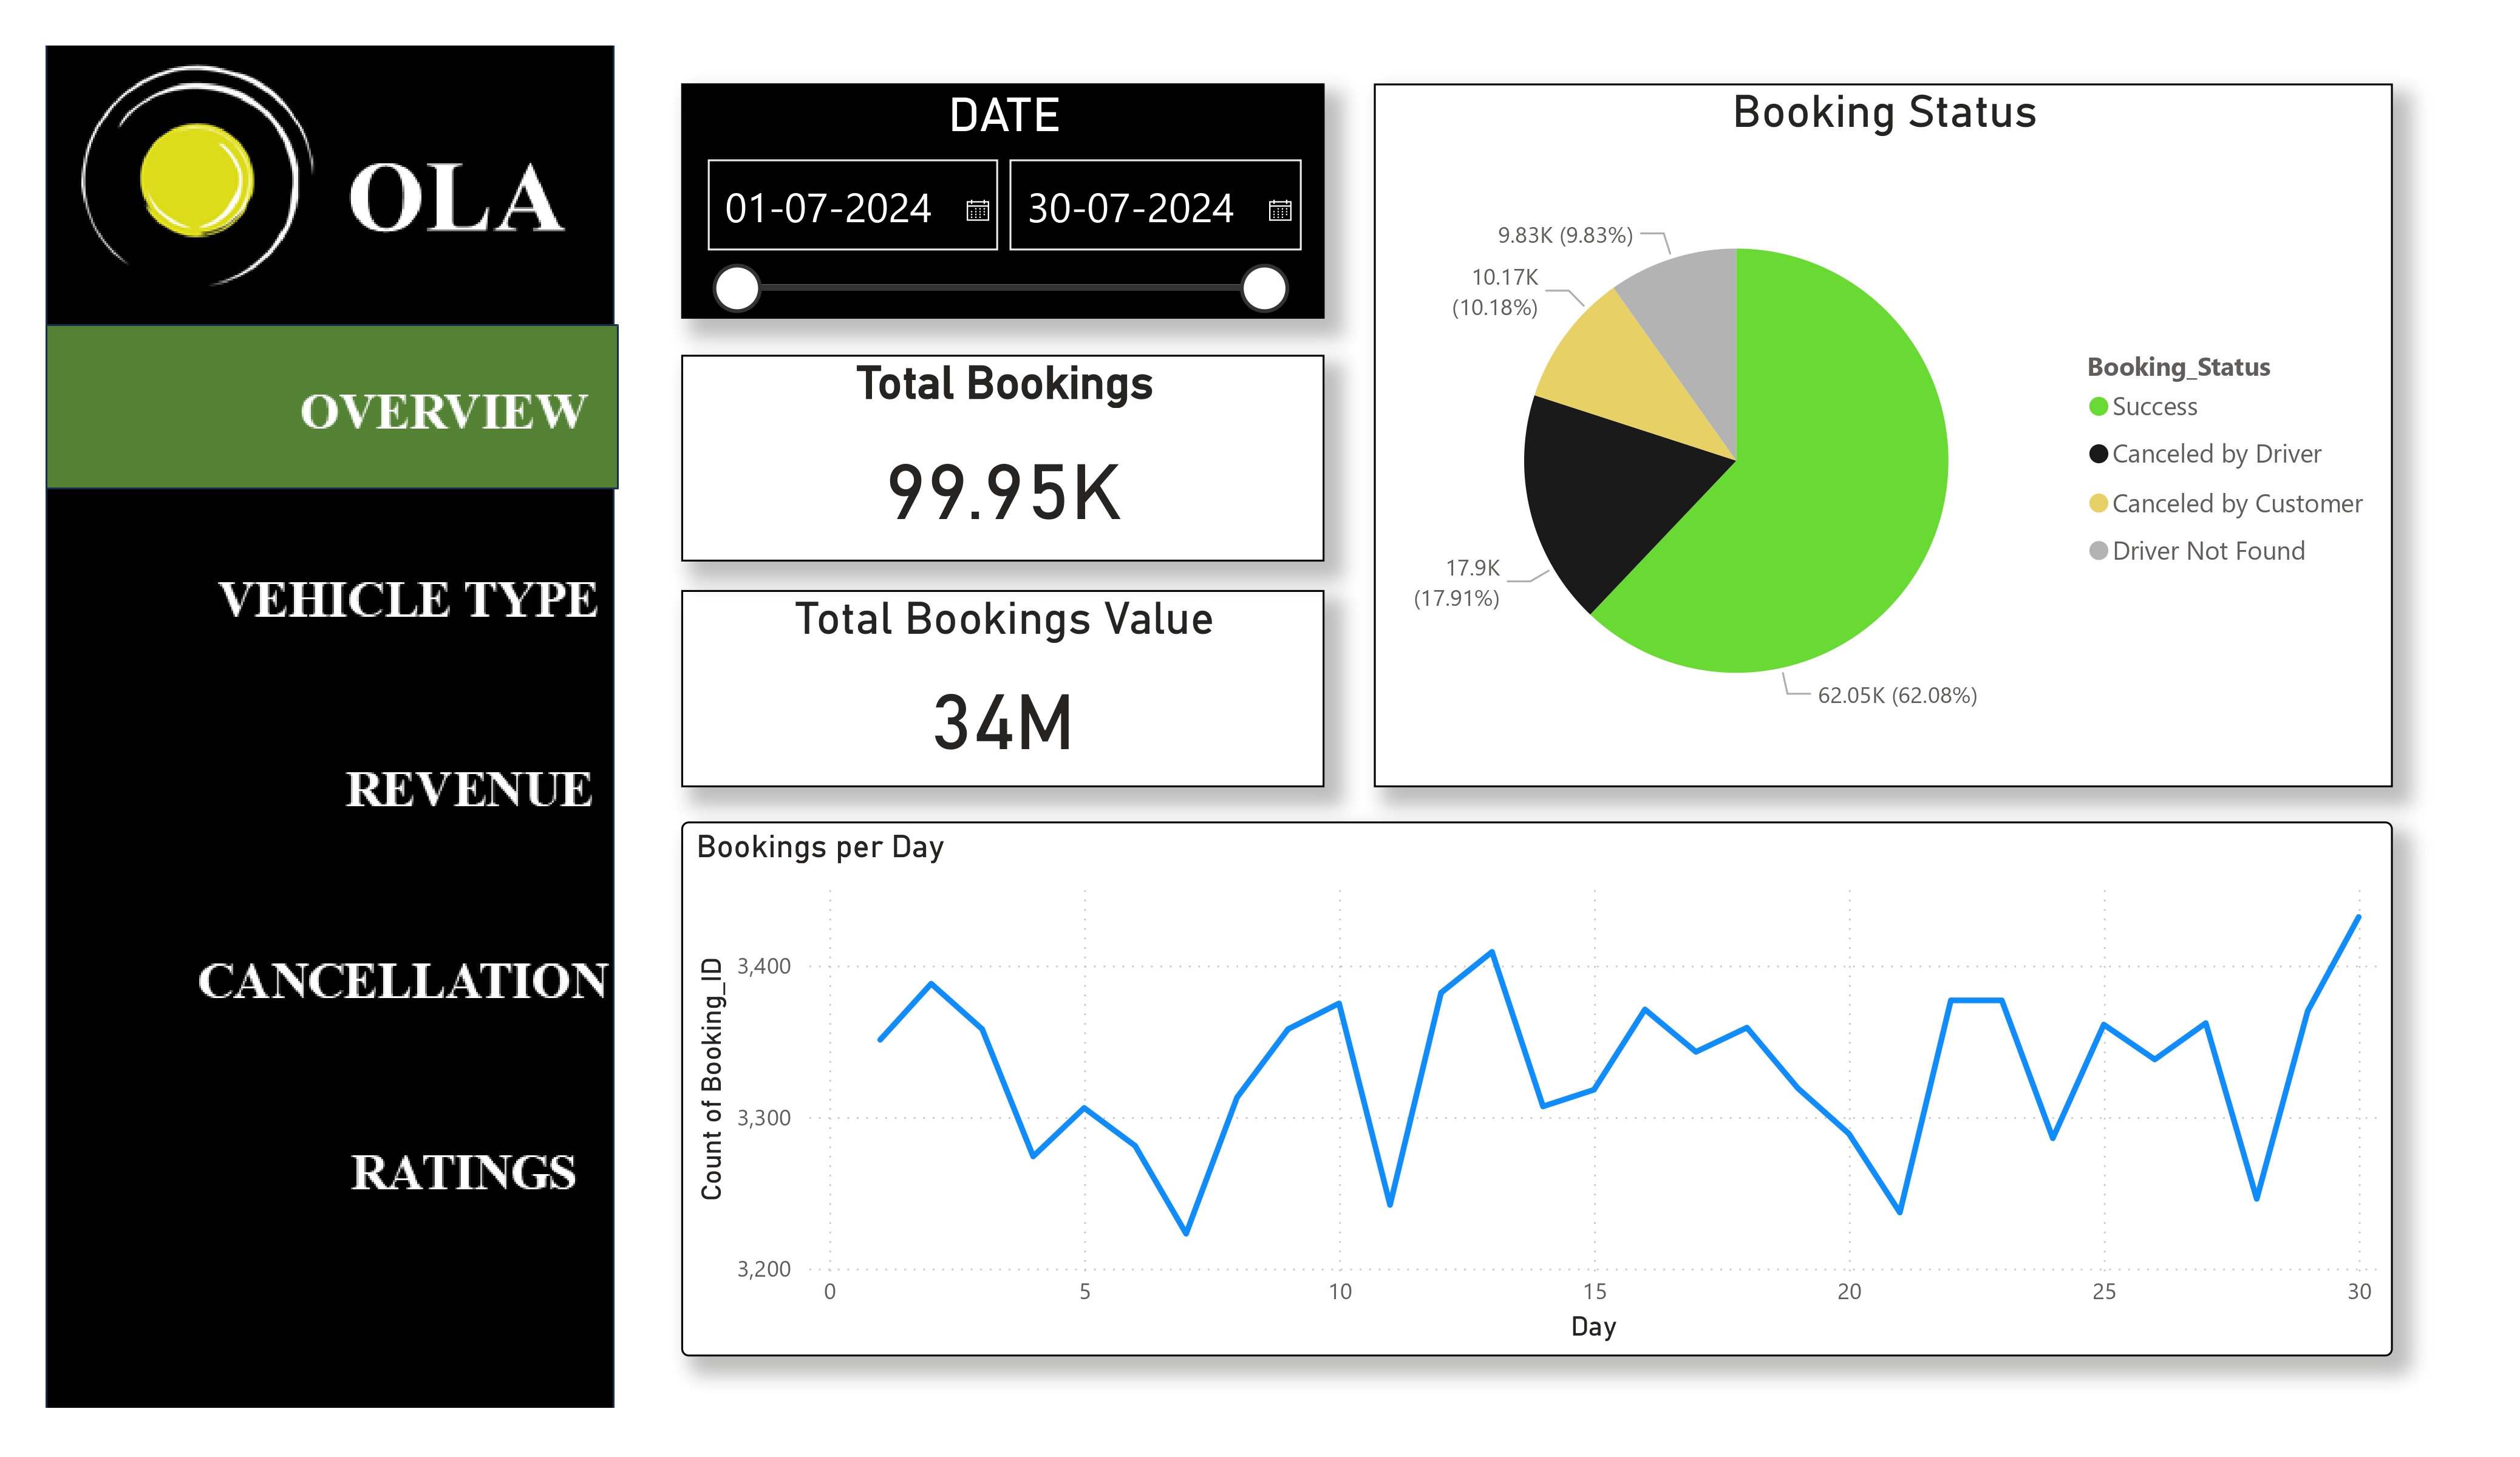

This screenshot's page, from the dashboard's own definition file:
{"tool":"powerbi","page":{"name":"OVERVIEW","canvas":[1280,720],"ordinal":0},"visuals":[{"type":"actionButton","box":[0,242.6,301.9,98.1],"z":1},{"type":"actionButton","box":[0,340.7,301.9,98.1],"z":2},{"type":"actionButton","box":[1.9,438.9,301.9,98.1],"z":3},{"type":"actionButton","box":[1.9,537,301.9,98.1],"z":4},{"type":"lineChart","title":"Bookings per Day","fields":{"Category":["July.Date.Variation.Date Hierarchy.Day"],"Y":["CountNonNull(July.Booking_ID)"]},"box":[335.2,409.3,901.9,281.5],"z":5},{"type":"pieChart","title":"Booking Status","fields":{"Category":["July.Booking_Status"],"Y":["CountNonNull(July.Booking_Status)"]},"box":[700,20.4,537,370.4],"z":6},{"type":"slicer","title":"DATE","fields":{"Values":["July.Date"]},"box":[335.2,20.4,338.9,124.1],"z":7},{"type":"card","title":"Total Bookings","fields":{"Values":["CountNonNull(July.Booking_ID)"]},"box":[335.2,163,338.9,109.3],"z":8},{"type":"card","title":"Total Bookings Value","fields":{"Values":["Sum(July.Booking_Value)"]},"box":[335.2,287,338.9,103.7],"z":9}]}

Visuals, with their boxes on the page's 1280x720 design canvas (x1, y1, x2, y2). These are canvas units, not pixel positions in the 2520x1457 screenshot, which may show the page scaled, cropped or inside an application window:
actionButton: <region>0, 243, 302, 341</region>
actionButton: <region>0, 341, 302, 439</region>
actionButton: <region>2, 439, 304, 537</region>
actionButton: <region>2, 537, 304, 635</region>
"Bookings per Day" lineChart: <region>335, 409, 1237, 691</region>
"Booking Status" pieChart: <region>700, 20, 1237, 391</region>
"DATE" slicer: <region>335, 20, 674, 144</region>
"Total Bookings" card: <region>335, 163, 674, 272</region>
"Total Bookings Value" card: <region>335, 287, 674, 391</region>
